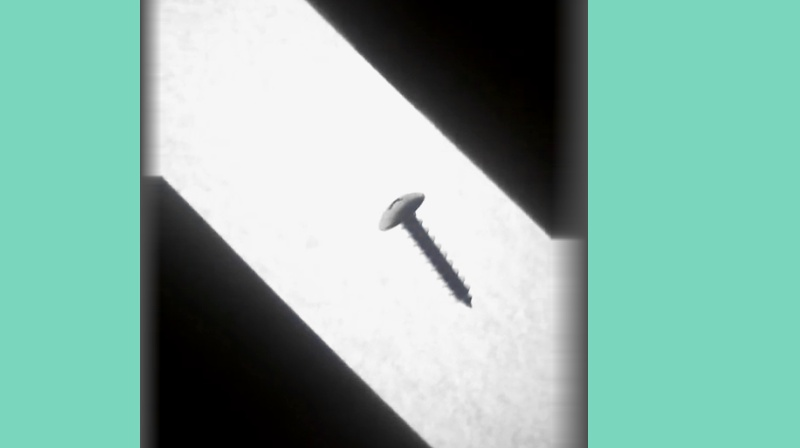S003: (374, 187, 473, 312)
